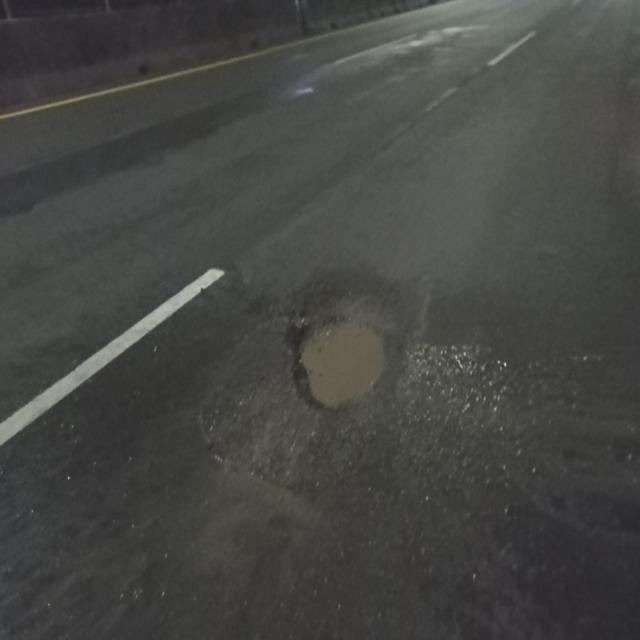Buraco: (274, 287, 407, 418)
